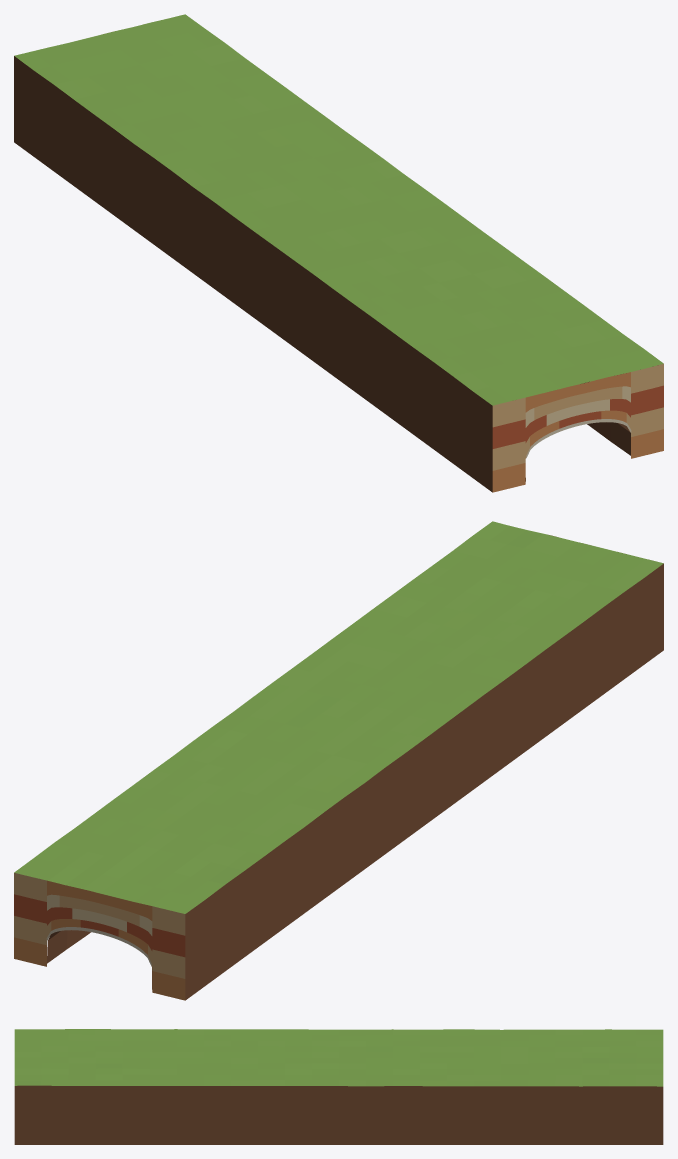
The model's file is tunel_cm.glb.
3 renders of one model, top to bottom at view 1: azimuth 30°, elevation 25°; view 2: azimuth 150°, elevation 25°; view 3: azimuth 270°, elevation 25°, orthographic. The views are drawn at different scales.
Parts seen in each view (by area): view 1: tunel_cm; view 2: tunel_cm; view 3: tunel_cm.
Part boxes in pixels (left/top/right/bottom): tunel_cm: left=14, top=14, right=663, bottom=492; tunel_cm: left=14, top=521, right=663, bottom=1000; tunel_cm: left=14, top=1029, right=663, bottom=1144.
Size of the model in its own units: 124 by 60.45 by 601.
